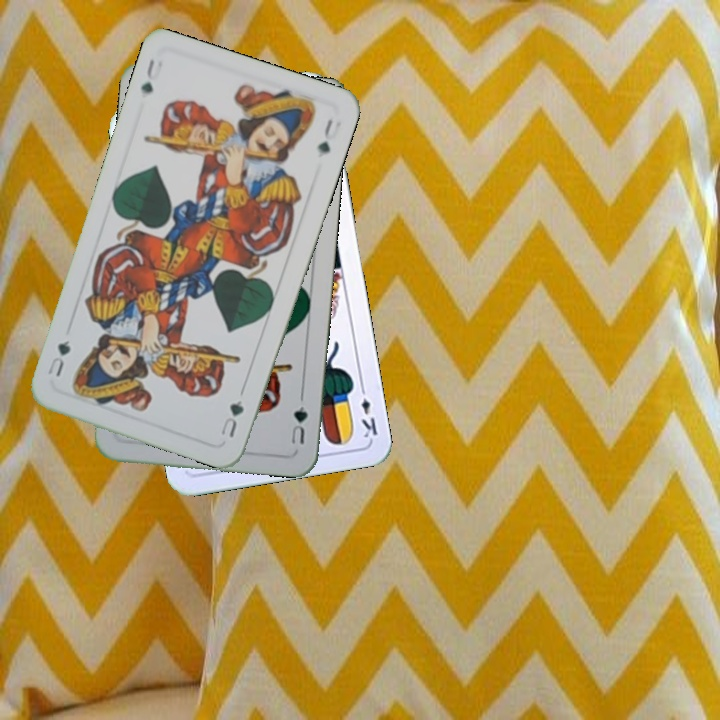EK: (356, 381, 380, 441)
GU: (216, 396, 247, 440), (136, 55, 165, 97), (287, 402, 310, 447)
